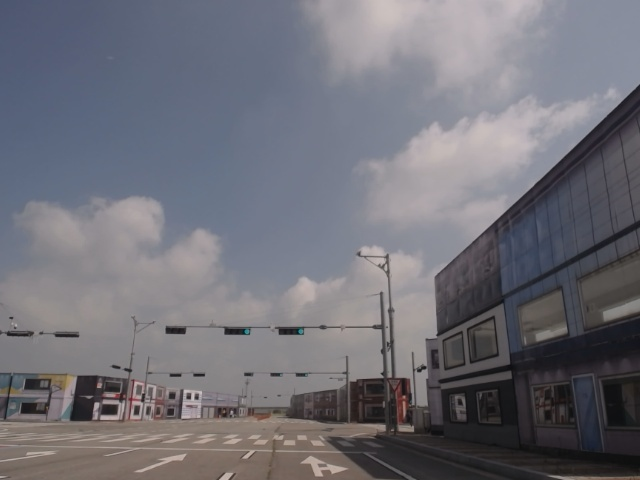straight_green_4: (225, 324, 251, 336), (277, 327, 306, 336)
